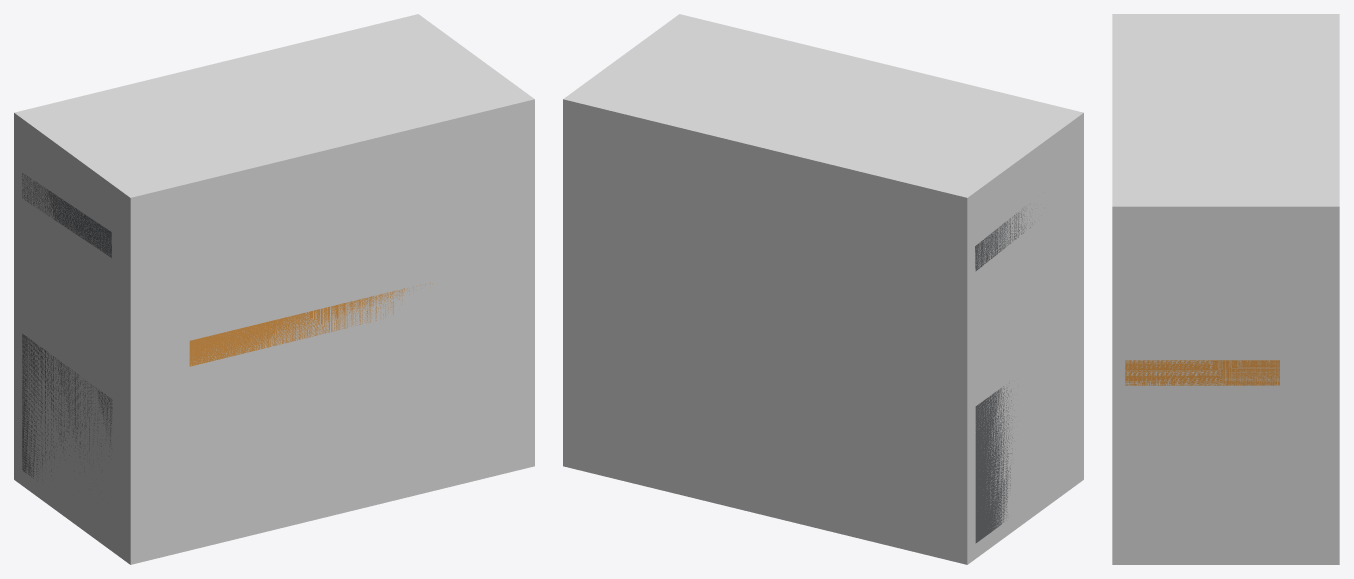
Rendered from toolbox.glb.
3 renders of one model, left to right at view 1: azimuth 30°, elevation 25°; view 2: azimuth 150°, elevation 25°; view 3: azimuth 270°, elevation 25°, orthographic. The views are drawn at different scales.
Parts seen in each view (by area): view 1: Toolbox_COL, tool-box_1, tool-box_0, tool-box-lid/dark; view 2: Toolbox_COL, tool-box_0, tool-box-lid/dark; view 3: Toolbox_COL, tool-box_1.
Boxes of the visible parts, x1=… form: Toolbox_COL: x1=14, y1=14, x2=534, y2=564; tool-box_1: x1=189, y1=282, x2=432, y2=366; tool-box_0: x1=22, y1=334, x2=112, y2=480; tool-box-lid/dark: x1=21, y1=173, x2=111, y2=257; Toolbox_COL: x1=563, y1=14, x2=1083, y2=564; tool-box_0: x1=975, y1=383, x2=1014, y2=543; tool-box-lid/dark: x1=975, y1=208, x2=1032, y2=271; Toolbox_COL: x1=1112, y1=14, x2=1339, y2=564; tool-box_1: x1=1125, y1=360, x2=1279, y2=385.
Size of the model in its own units: 0.555 by 0.4813 by 0.2768.
